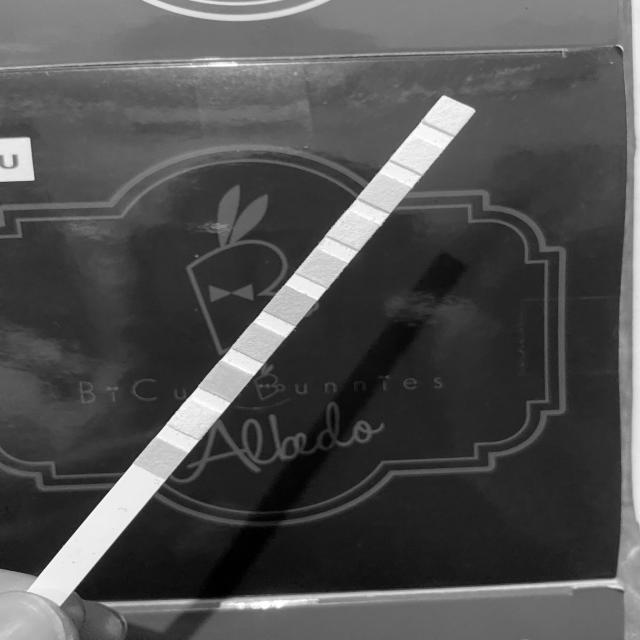Bilirubin: (178, 409, 208, 430)
Blood: (274, 296, 306, 315)
Glucose: (146, 448, 176, 468)
Ketone: (211, 370, 241, 390)
Leukocytes: (434, 107, 466, 124)
Nitrite: (400, 145, 432, 164)
Protein: (337, 221, 371, 239)
SpGravity: (242, 333, 275, 352)
Urobilinogen: (369, 183, 400, 202)
background: (0, 0, 640, 640)
pH: (306, 260, 337, 278)
strip: (31, 95, 477, 603)
